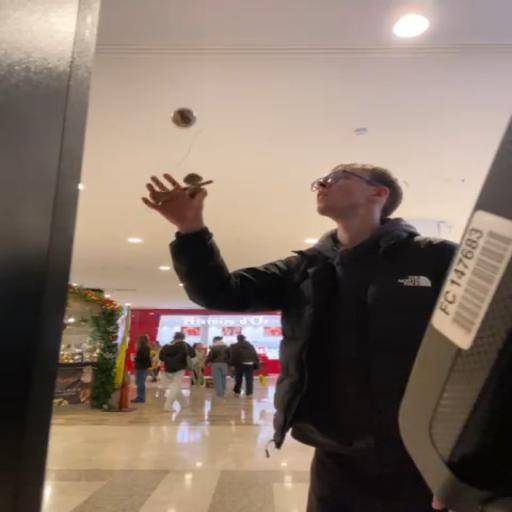kendama_ball: (171, 107, 196, 129)
